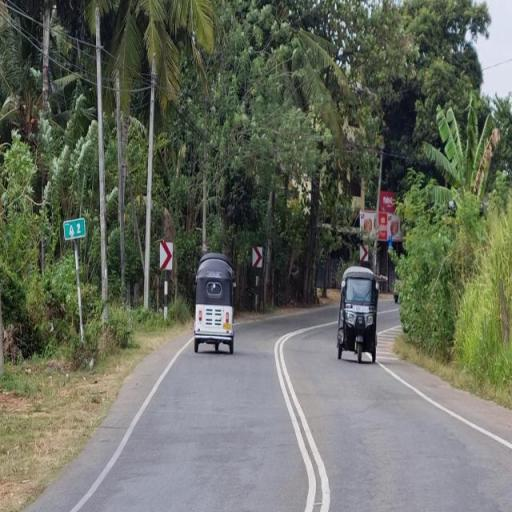double_white_line: (276, 325, 326, 511)
